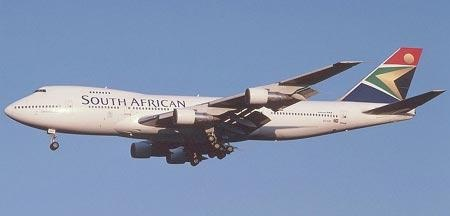airplane: (3, 46, 444, 164)
